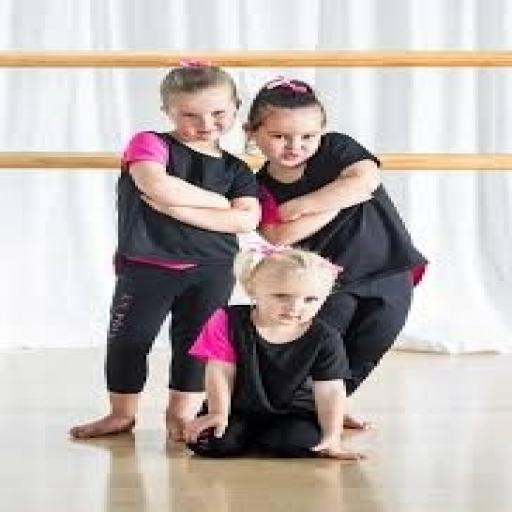dancing: (65, 59, 264, 444), (236, 74, 430, 425), (180, 244, 371, 462)
